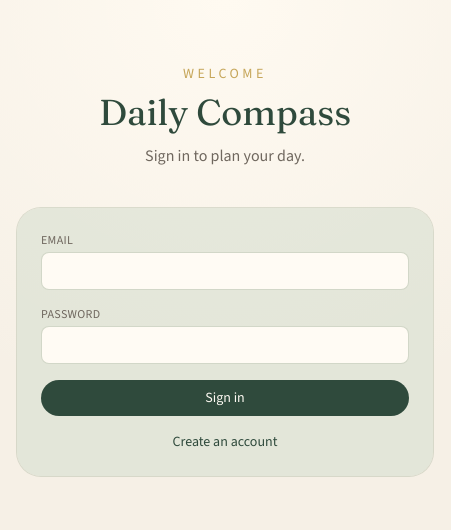
LoginForm › creates an account from the signup view
Click the button "Create an account" at (225,442), box [41, 432, 409, 452]
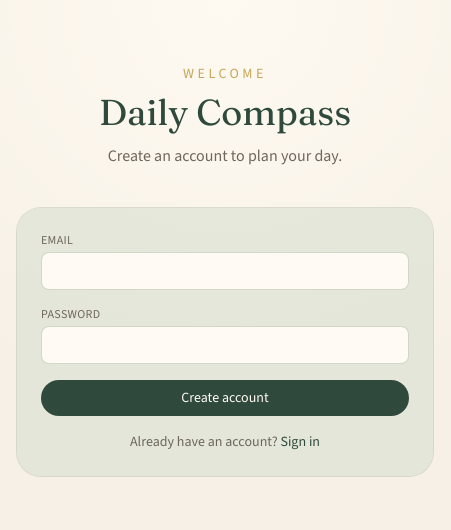
Expected: the button "Sign in" is shown, [280, 432, 320, 452]
Expected: the form with test id "signup-form" is shown, [17, 208, 433, 476]
Expected: the text "Already have an account? Sign in" is shown, [130, 432, 320, 452]
Type "new@example.com" into the field labelled "Email" at (225,271), box [41, 252, 409, 290]
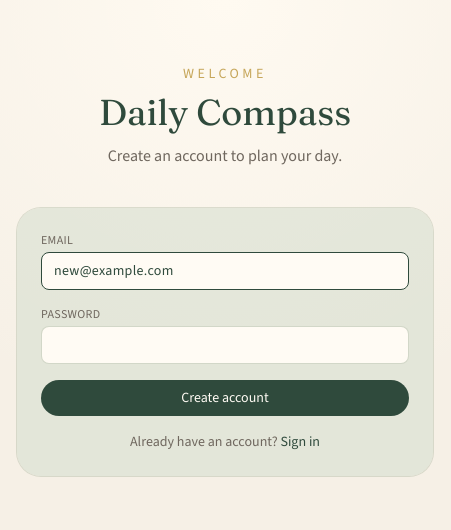
Type "password1" into the password field labelled "Password" at (225,345), box [41, 326, 409, 364]
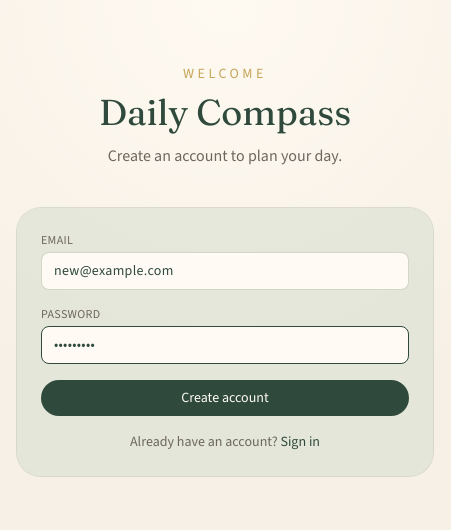
Click the button "Create account" at (225,398), box [41, 380, 409, 416]
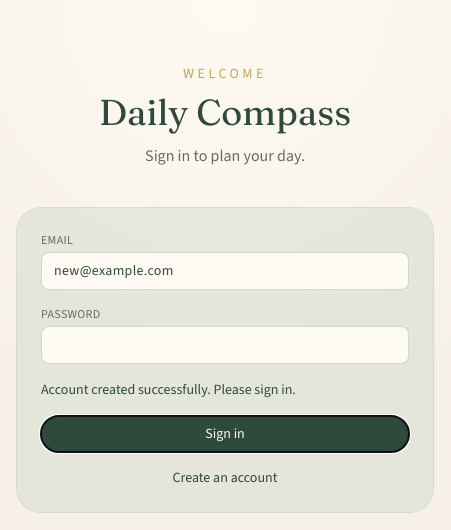
Expected: the form with test id "login-form" is shown, [17, 208, 433, 512]
Expected: the text "Account created successfully. Please sign in." is shown, [41, 380, 296, 399]
